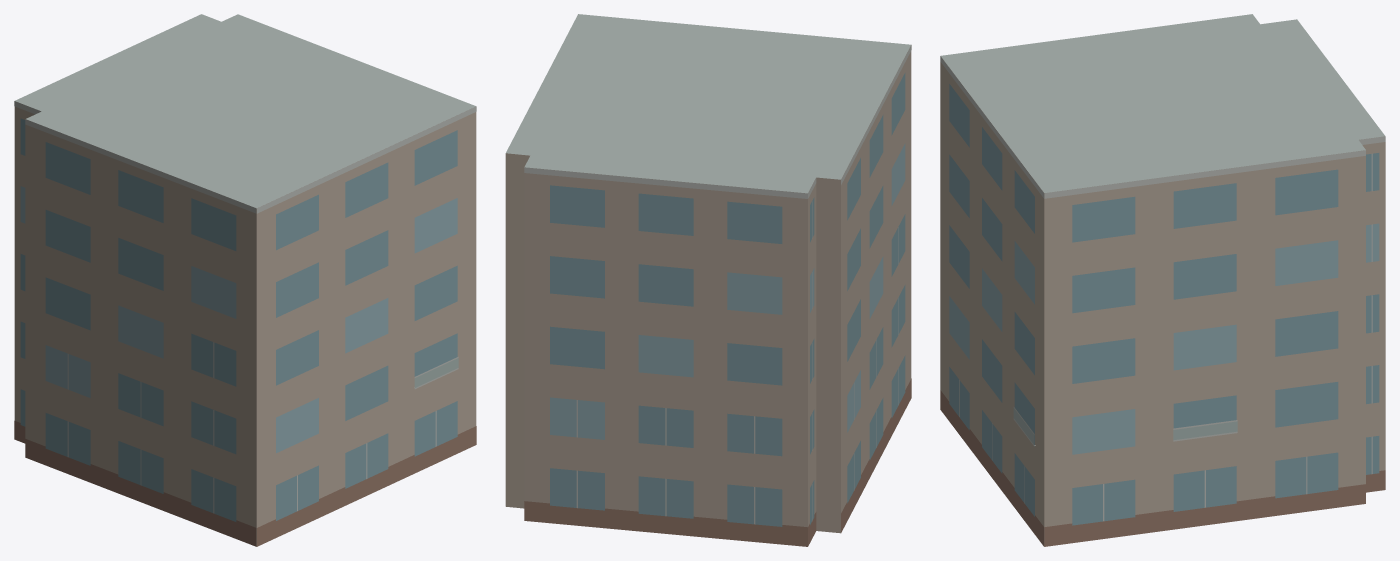
Rendered from survey-upis-32620775.glb.
The picture shows the model from 3 angles, left to right: view 1: azimuth 30°, elevation 25°; view 2: azimuth 150°, elevation 25°; view 3: azimuth 270°, elevation 25°; orthographic projection. The views are drawn at different scales.
Visible parts, largest first — view 1: survey-upis-32620775.tmp; view 2: survey-upis-32620775.tmp; view 3: survey-upis-32620775.tmp.
Part boxes in pixels (x1,y1,x2,y2): survey-upis-32620775.tmp: (14, 14, 476, 546); survey-upis-32620775.tmp: (505, 14, 911, 546); survey-upis-32620775.tmp: (940, 14, 1385, 546).
Bounding box in the file's own units: 16.52 × 15.2 × 17.35.
